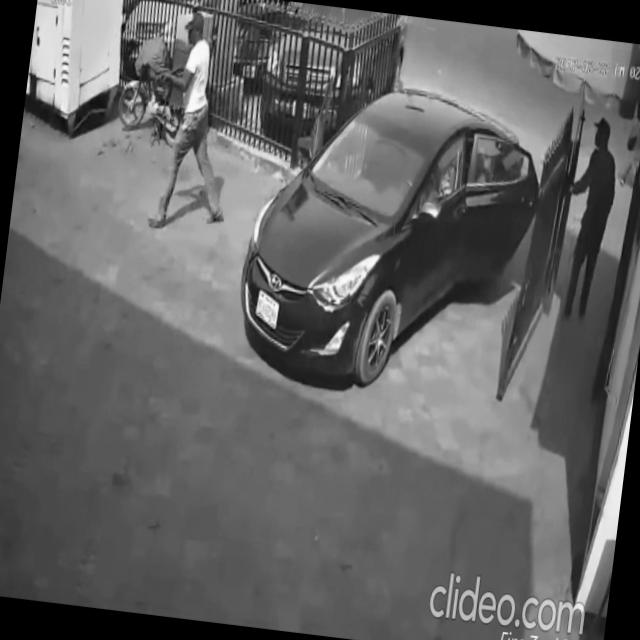gun: (144, 62, 188, 101)
person: (552, 109, 626, 327)
person with a gun: (130, 4, 250, 234)
